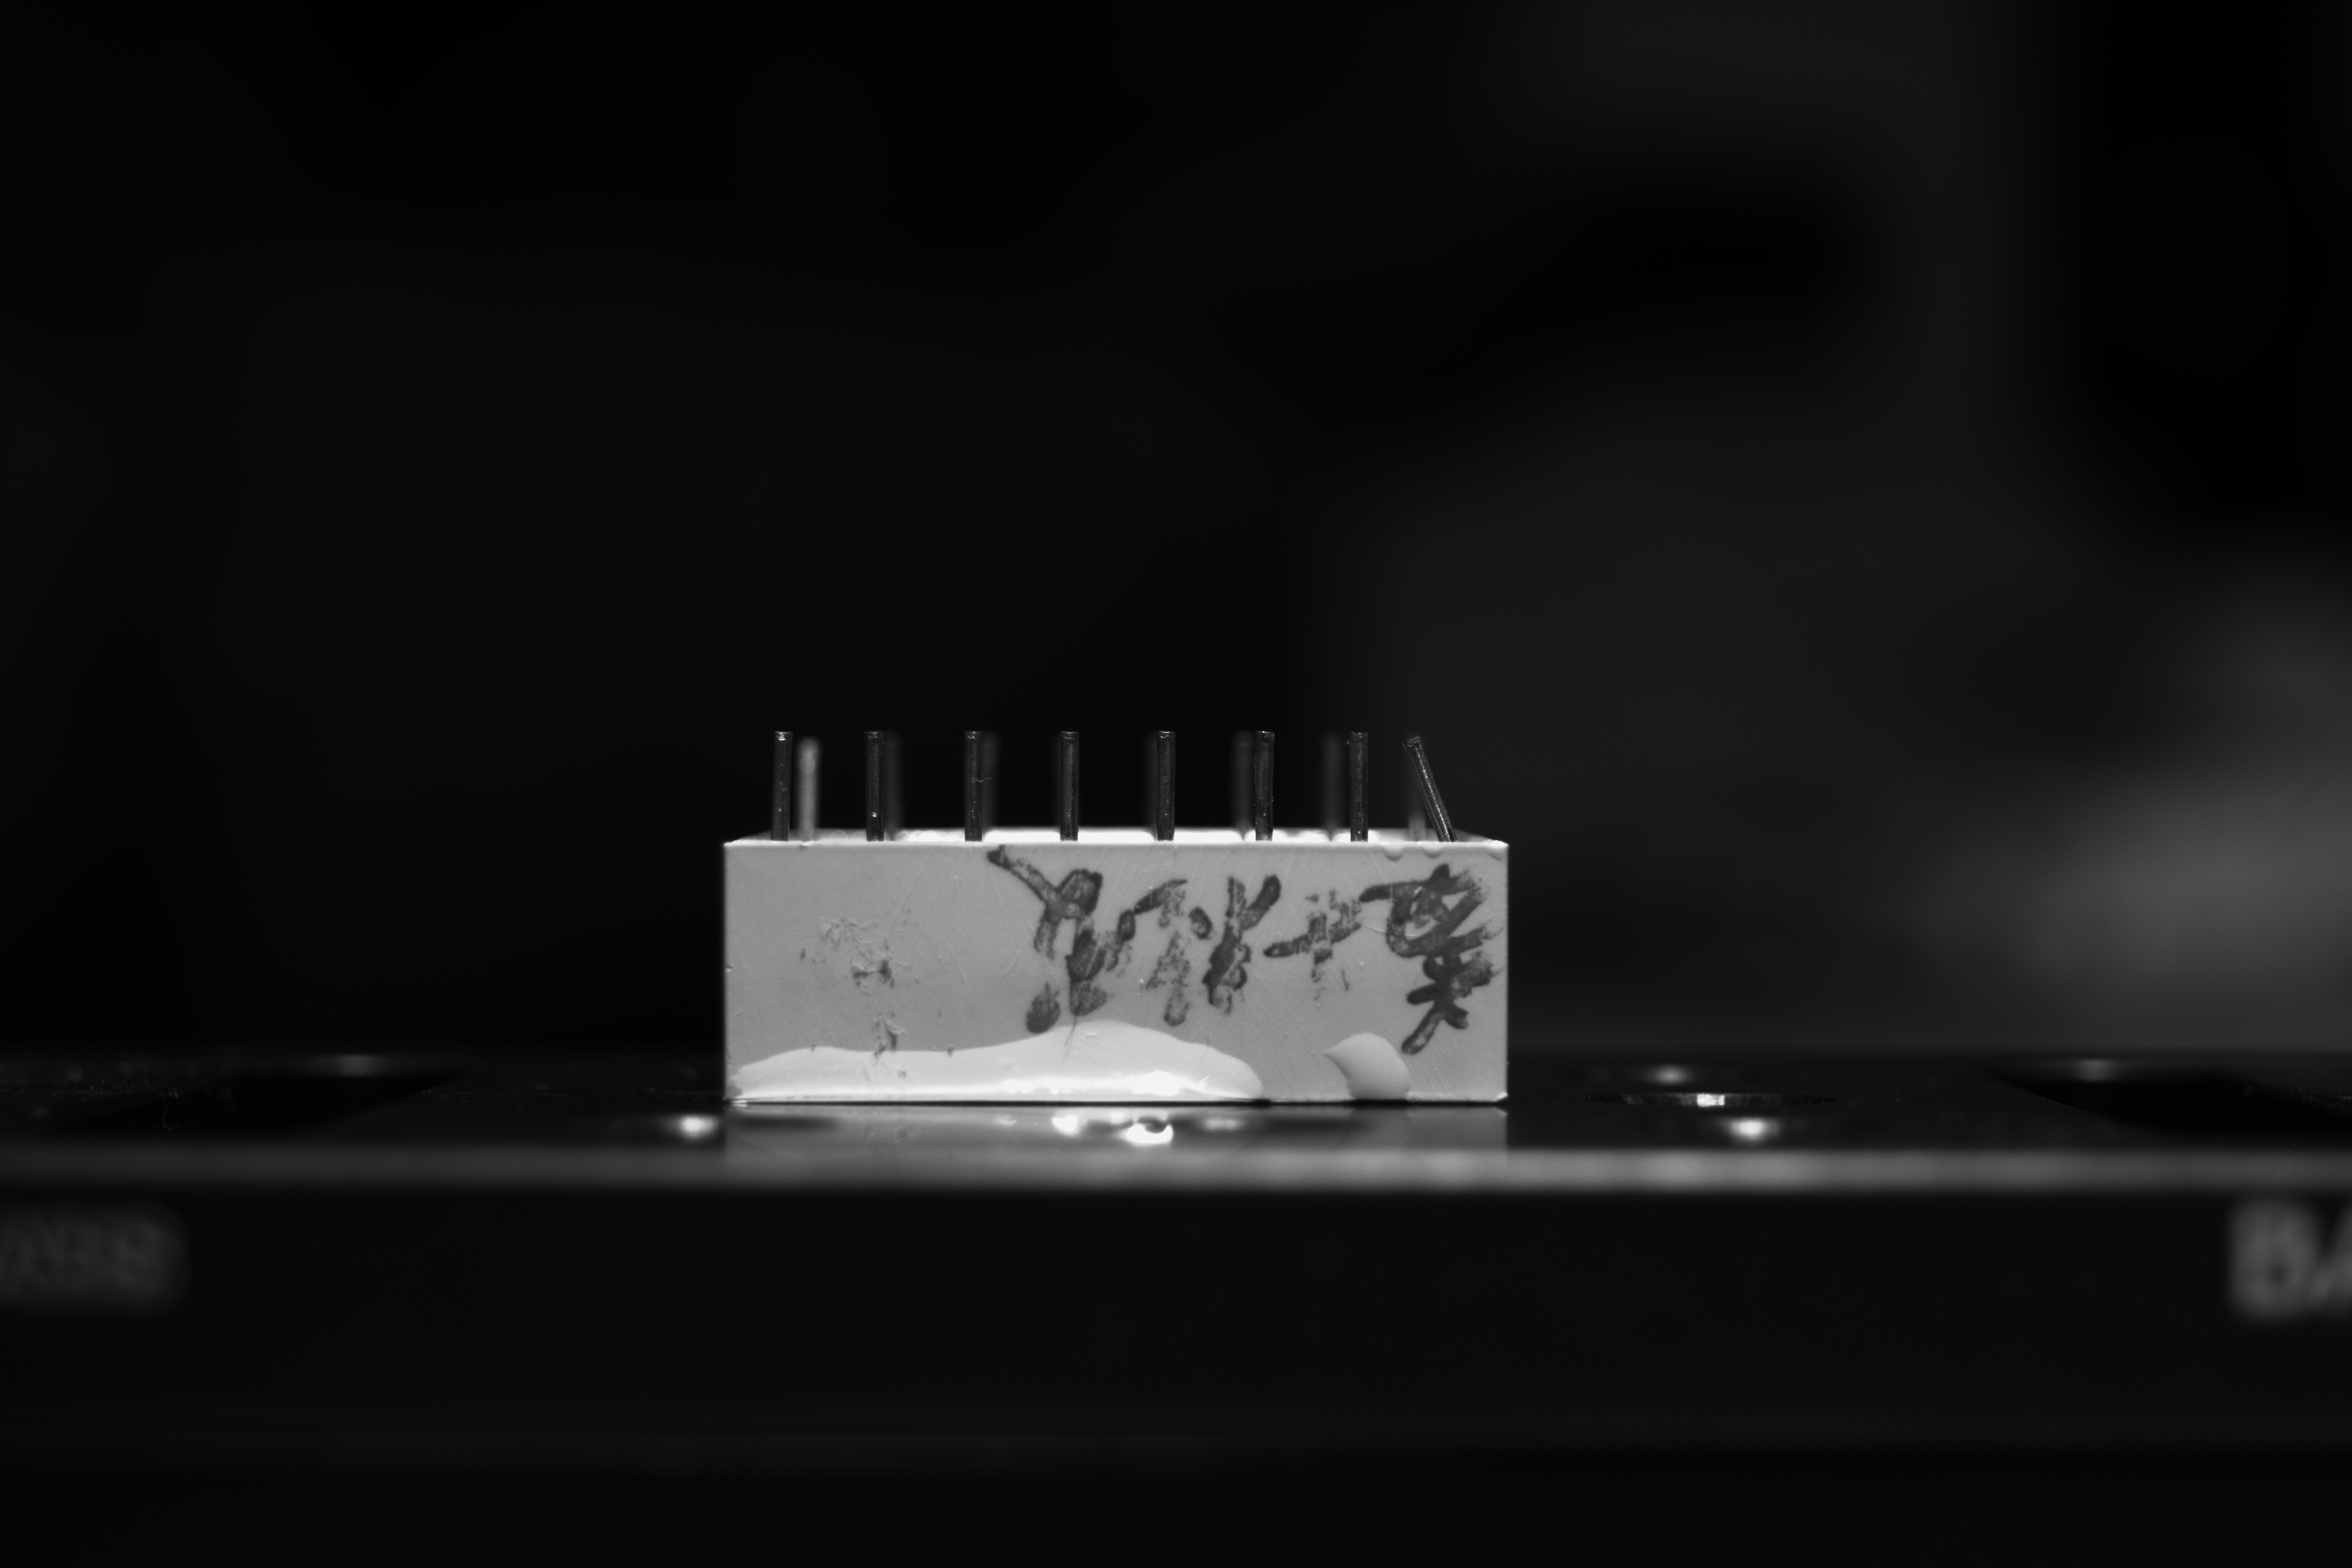glue: (726, 1017, 1267, 1104), (1316, 1031, 1426, 1099), (1379, 843, 1409, 863), (1419, 845, 1449, 861), (1486, 845, 1507, 866), (1134, 973, 1151, 992)
pin_glue: (1253, 749, 1276, 805)
pin_inclined_side: (1402, 731, 1463, 843), (770, 724, 796, 842)
